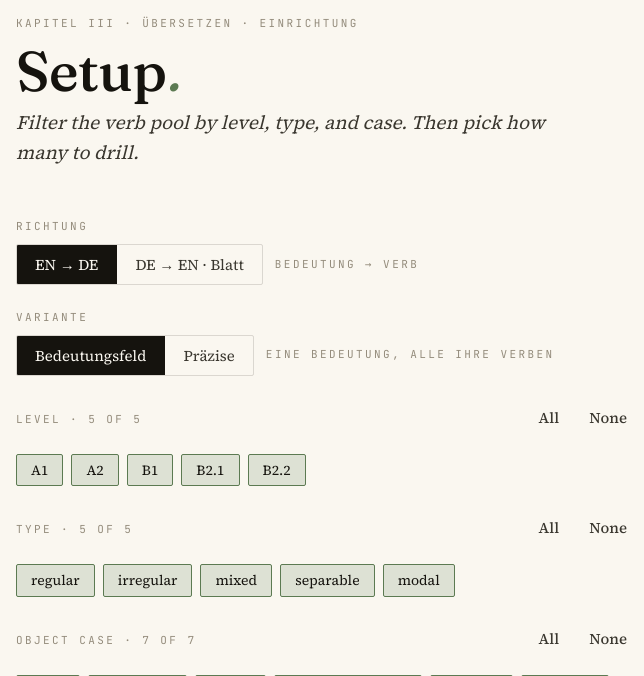
Test: TranslationQuizSetup Variante › Variante control shows for EN→DE and is hidden for DE→EN
Click the button "DE → EN · Blatt". click: x=190, y=264
box: [117,245,262,284]
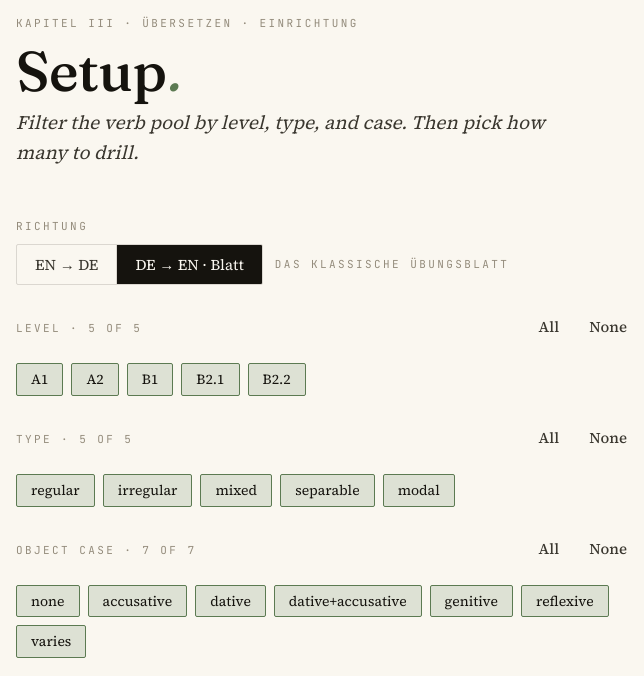
Check: the text "Variante" is gone
